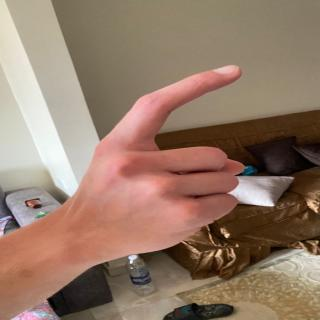RAA: (78, 58, 258, 257)
